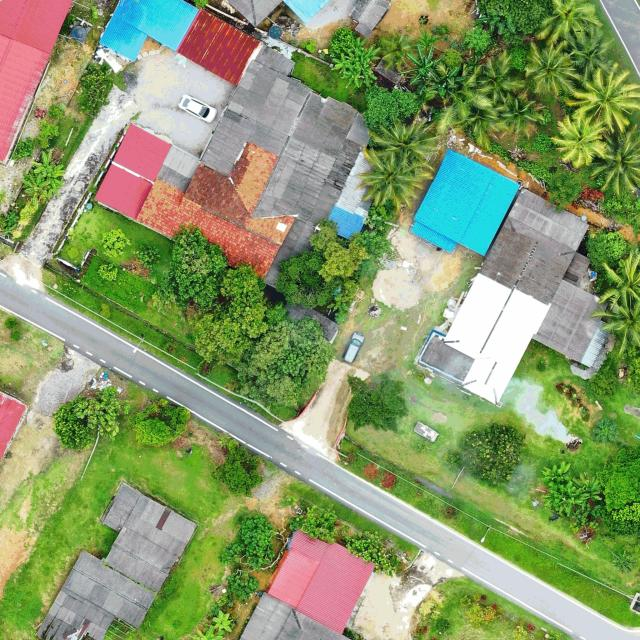Tree: (236, 314, 336, 411), (152, 224, 228, 314), (560, 62, 640, 137), (220, 262, 288, 338), (357, 147, 433, 212), (53, 384, 124, 452), (590, 445, 640, 536), (309, 217, 369, 282), (274, 248, 336, 310), (347, 372, 408, 433), (467, 421, 522, 487), (588, 130, 640, 198), (192, 309, 254, 366), (369, 116, 438, 167), (209, 436, 263, 500), (126, 397, 191, 448), (362, 84, 425, 134), (533, 0, 600, 47), (526, 39, 578, 99), (551, 112, 605, 168), (590, 295, 640, 353), (344, 528, 401, 578), (478, 54, 524, 106), (237, 511, 277, 570), (76, 60, 114, 116), (499, 91, 544, 138), (599, 253, 640, 304), (584, 226, 628, 272), (288, 505, 338, 544), (402, 43, 446, 85), (541, 480, 589, 518), (544, 168, 585, 212), (376, 31, 416, 72), (431, 66, 467, 97), (100, 227, 132, 261), (22, 168, 51, 203), (572, 471, 601, 502), (329, 27, 357, 58), (476, 14, 517, 35), (341, 65, 376, 89), (540, 462, 572, 484), (32, 150, 56, 176), (189, 624, 226, 640), (136, 245, 160, 268), (344, 50, 371, 70), (358, 44, 382, 64), (331, 53, 355, 73), (212, 610, 232, 633), (46, 177, 65, 200), (347, 38, 368, 58)
